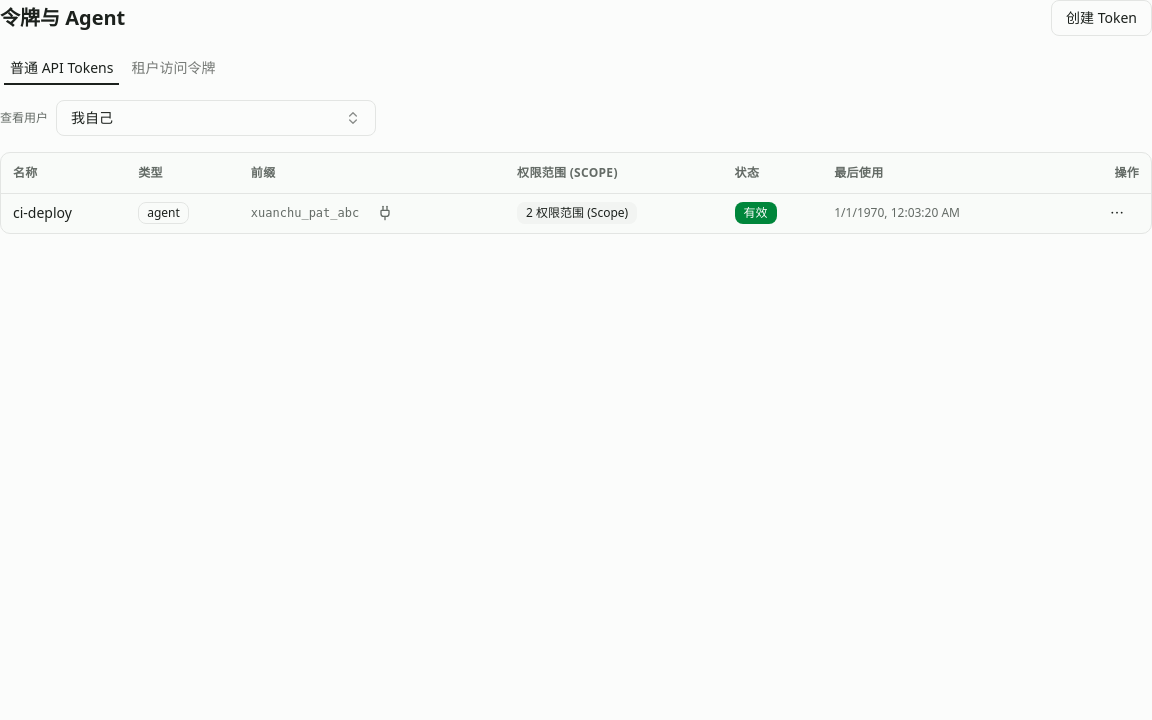
Test: TokensPage › opens MCP config dialog for API token rows
Click the button named "MCP 配置：ci-deploy". click: (385, 213)
box: [367,195,403,231]
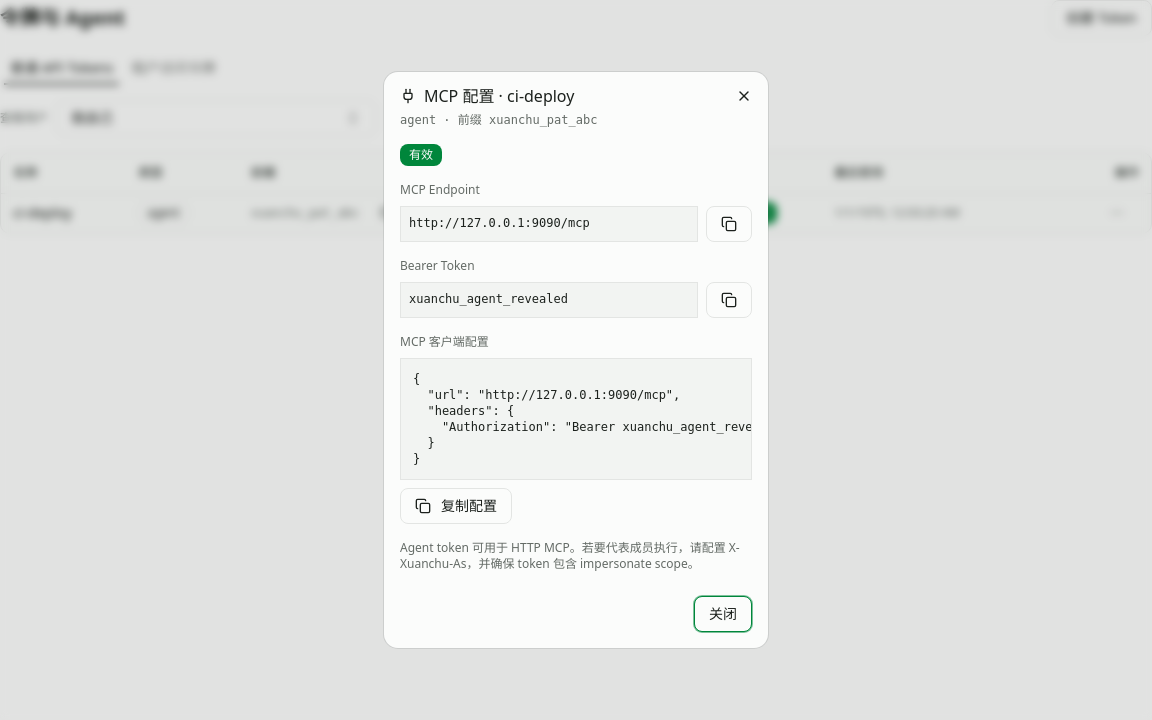
Check: the text "xuanchu_agent_revealed" is shown, box [400,282,698,318]
